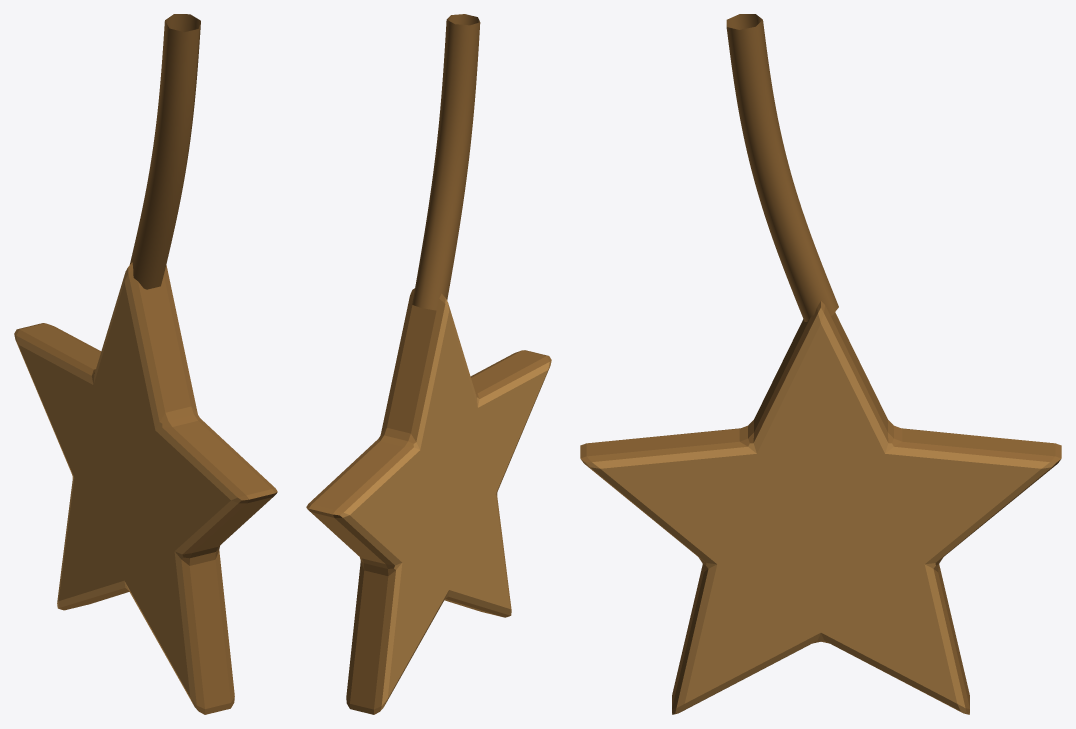
The model's file is SM_Menu_MoonStarLeft.fbx.
3 views of the same model, side by side, from view 1: azimuth 30°, elevation 25°; view 2: azimuth 150°, elevation 25°; view 3: azimuth 270°, elevation 25° (orthographic). The views are drawn at different scales.
Parts seen in each view (by area): view 1: Rope core.015_Baked; view 2: Rope core.015_Baked; view 3: Rope core.015_Baked.
Part boxes in pixels (x1,y1,x2,y2): Rope core.015_Baked: (14, 14, 277, 714); Rope core.015_Baked: (306, 14, 551, 714); Rope core.015_Baked: (580, 14, 1061, 714).
Bounding box in the file's own units: 4 × 37.43 × 59.09.
